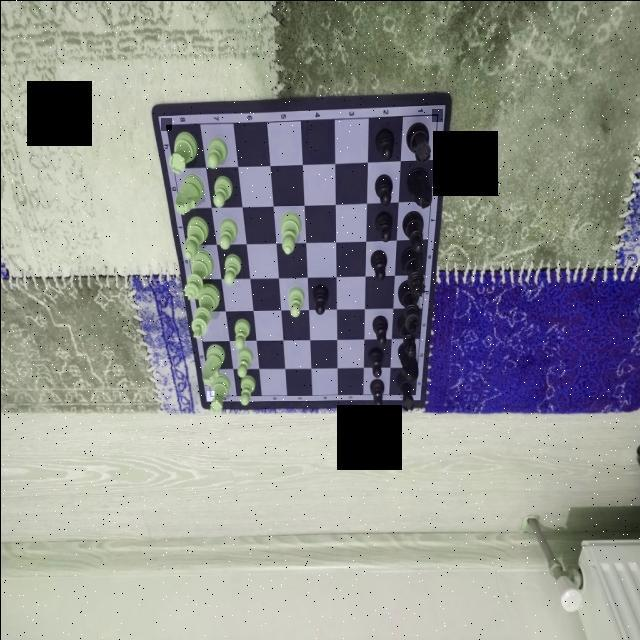chess-table-corners: (160, 117, 171, 130), (431, 108, 442, 121), (410, 389, 420, 399), (206, 390, 214, 400)
